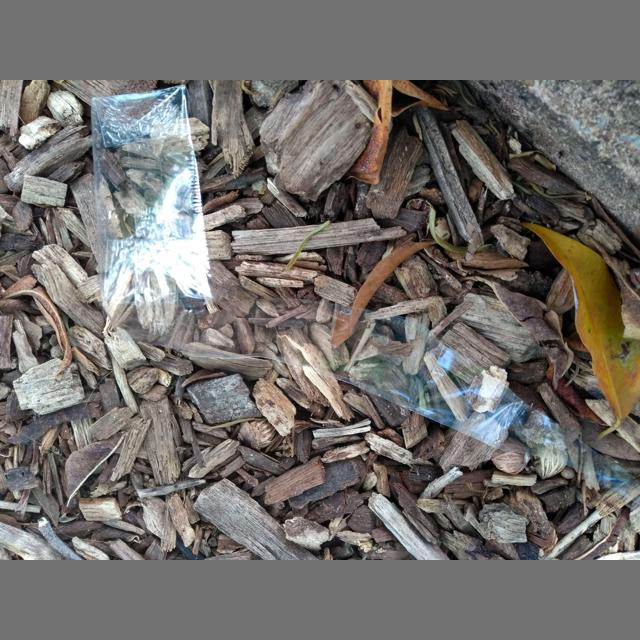litter: (91, 85, 638, 516)
